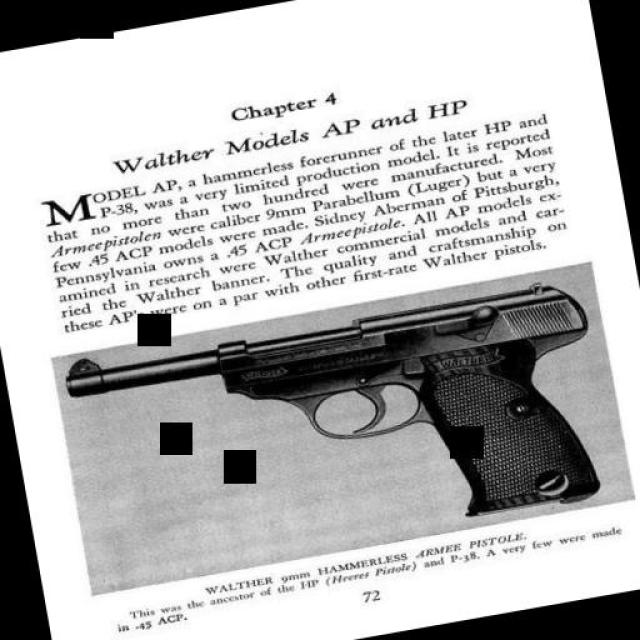gun: (55, 268, 621, 588)
